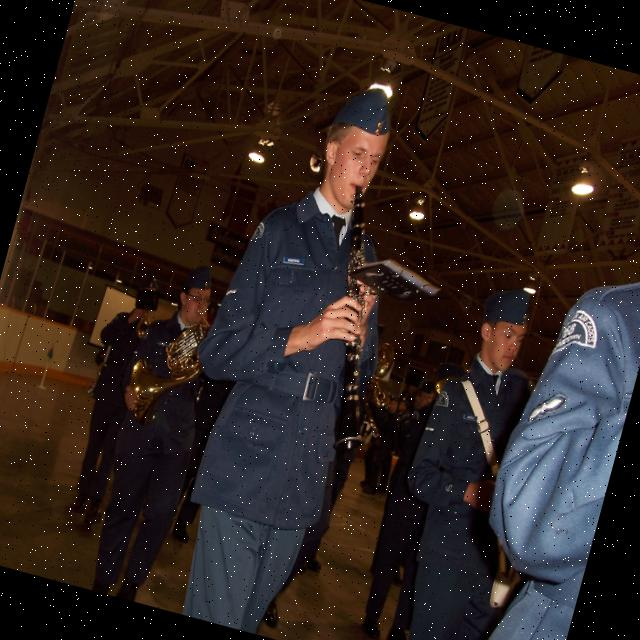clarinet: (286, 184, 428, 458)
